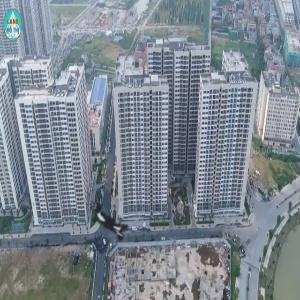drone: (46, 159, 178, 291)
